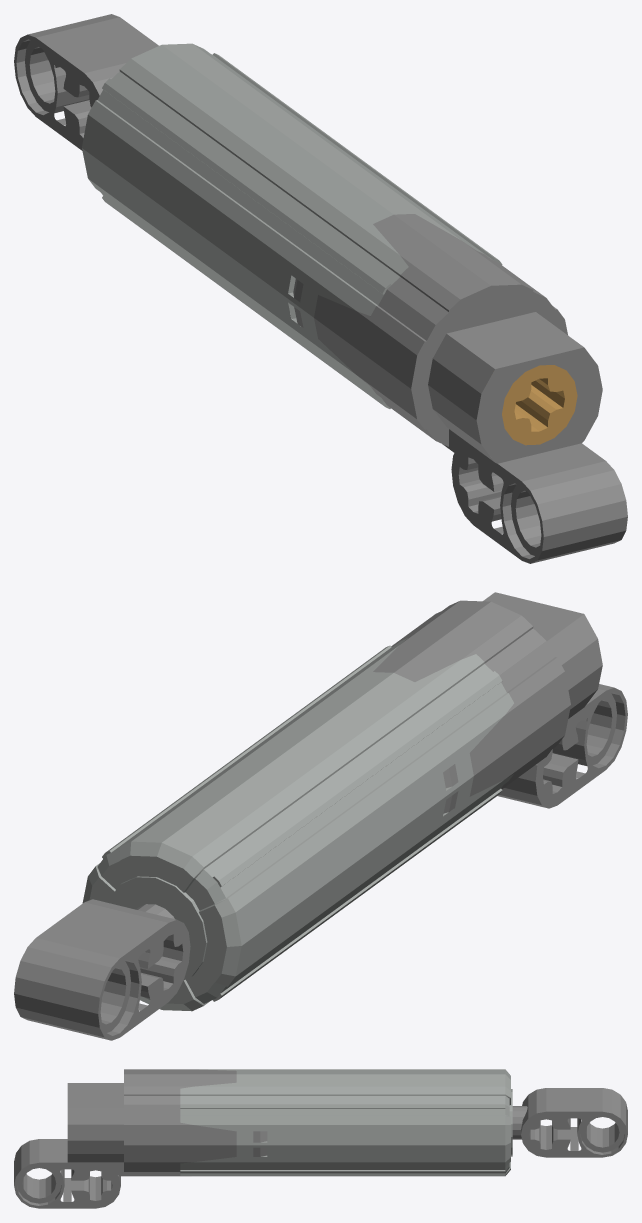
3 views of the same model, one above another, from view 1: azimuth 30°, elevation 25°; view 2: azimuth 150°, elevation 25°; view 3: azimuth 270°, elevation 25° (orthographic). The views are drawn at different scales.
Visible parts, largest first — view 1: world; view 2: world; view 3: world.
Part boxes in pixels (box(x1,y1,x2,y2)): world: box(14, 14, 627, 563); world: box(14, 592, 627, 1040); world: box(14, 1069, 627, 1208).
Size of the model in its own units: 0.0152 by 0.0192 by 0.0872.
